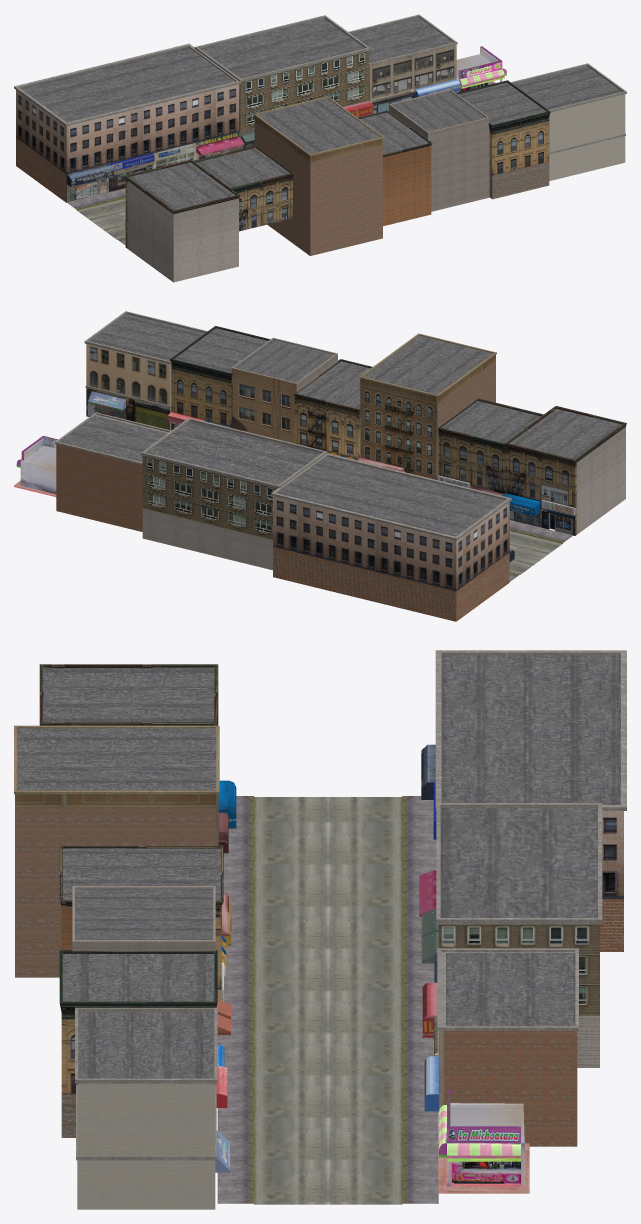
File: Set1.fbx
3 renders of one model, top to bottom at view 1: azimuth 30°, elevation 25°; view 2: azimuth 150°, elevation 25°; view 3: azimuth 270°, elevation 25°, orthographic. The views are drawn at different scales.
Parts seen in each view (by area): view 1: Building_06.002, Building_07.005, building_08.004_brick_modern_0.003, Building_08.005, building_18.014_brick_modern_05_0.003, Building_09.005, building_11.008_brick_modern_04_0.003, building_08.004_Roof_tiles_0.003, building_09.011_building_09_0.003, building_07.007_brick_modern_02_0.003, building_19.008_building_19_0.003, building_18.014_Roof_tiles_0.003 (+9 smaller); view 2: Building_06.002, Building_07.005, Building_08.005, Building_09.005, building_08.004_building_08_0.003, building_18.014_building_18_0.003, building_08.004_Roof_tiles_0.003, building_19.008_building_19_0.003, building_11.008_building_11_0.003, building_09.011_building_09_0.003, building_07.007_building_07_0.003, building_18.014_brick_modern_05_0.003 (+9 smaller); view 3: Road.017, Building_06.002, Building_08.005, Building_07.005, Building_09.005, building_08.004_brick_modern_0.003, building_08.004_Roof_tiles_0.003, building_18.014_Roof_tiles_0.003, misho.001, building_09.011_Roof_tiles_0.003, building_11.008_Roof_tiles_0.003, building_07.007_Roof_tiles_0.003 (+5 smaller).
Boxes of the visible parts, x1,y1,x2,y2 form: Building_06.002: [14, 43, 244, 202]; Building_07.005: [194, 15, 373, 149]; building_08.004_brick_modern_0.003: [255, 123, 382, 255]; Building_08.005: [511, 63, 626, 180]; building_18.014_brick_modern_05_0.003: [127, 180, 238, 282]; Building_09.005: [348, 14, 460, 113]; building_11.008_brick_modern_04_0.003: [389, 89, 489, 211]; building_08.004_Roof_tiles_0.003: [257, 98, 379, 153]; building_09.011_building_09_0.003: [456, 80, 550, 175]; building_07.007_brick_modern_02_0.003: [383, 146, 431, 226]; building_19.008_building_19_0.003: [194, 146, 293, 231]; building_18.014_Roof_tiles_0.003: [129, 162, 235, 210]; Building_06.002: [271, 453, 514, 621]; Building_07.005: [141, 418, 327, 570]; Building_08.005: [84, 311, 207, 430]; Building_09.005: [55, 412, 170, 531]; building_08.004_building_08_0.003: [357, 333, 496, 479]; building_18.014_building_18_0.003: [502, 406, 626, 535]; building_08.004_Roof_tiles_0.003: [363, 335, 492, 394]; building_19.008_building_19_0.003: [437, 398, 543, 495]; building_11.008_building_11_0.003: [231, 368, 296, 443]; building_09.011_building_09_0.003: [168, 326, 269, 430]; building_07.007_building_07_0.003: [293, 359, 372, 460]; building_18.014_brick_modern_05_0.003: [576, 427, 625, 534]; Road.017: [217, 796, 438, 1204]; Building_06.002: [419, 650, 626, 951]; Building_08.005: [75, 1007, 229, 1209]; Building_07.005: [421, 803, 602, 1067]; Building_09.005: [424, 948, 578, 1146]; building_08.004_brick_modern_0.003: [15, 807, 216, 977]; building_08.004_Roof_tiles_0.003: [17, 728, 216, 790]; building_18.014_Roof_tiles_0.003: [43, 668, 214, 722]; misho.001: [438, 1090, 529, 1193]; building_09.011_Roof_tiles_0.003: [63, 954, 213, 1001]; building_11.008_Roof_tiles_0.003: [75, 889, 212, 939]; building_07.007_Roof_tiles_0.003: [62, 848, 220, 900].
Bounding box in the file's own units: 16.04 × 10.01 × 3.37.
Materials: 36 (35 with a texture image).
